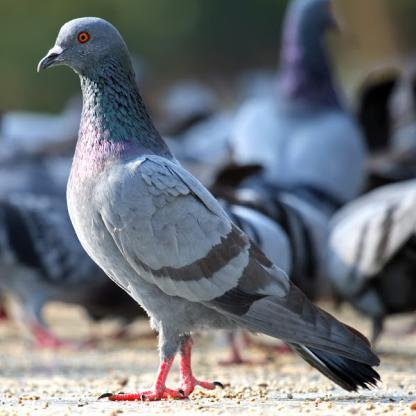Rock Pigeon: (30, 15, 392, 403)
